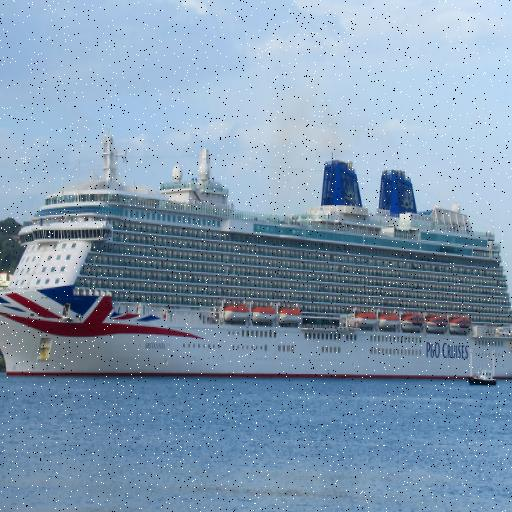cruises: (1, 131, 512, 390)
